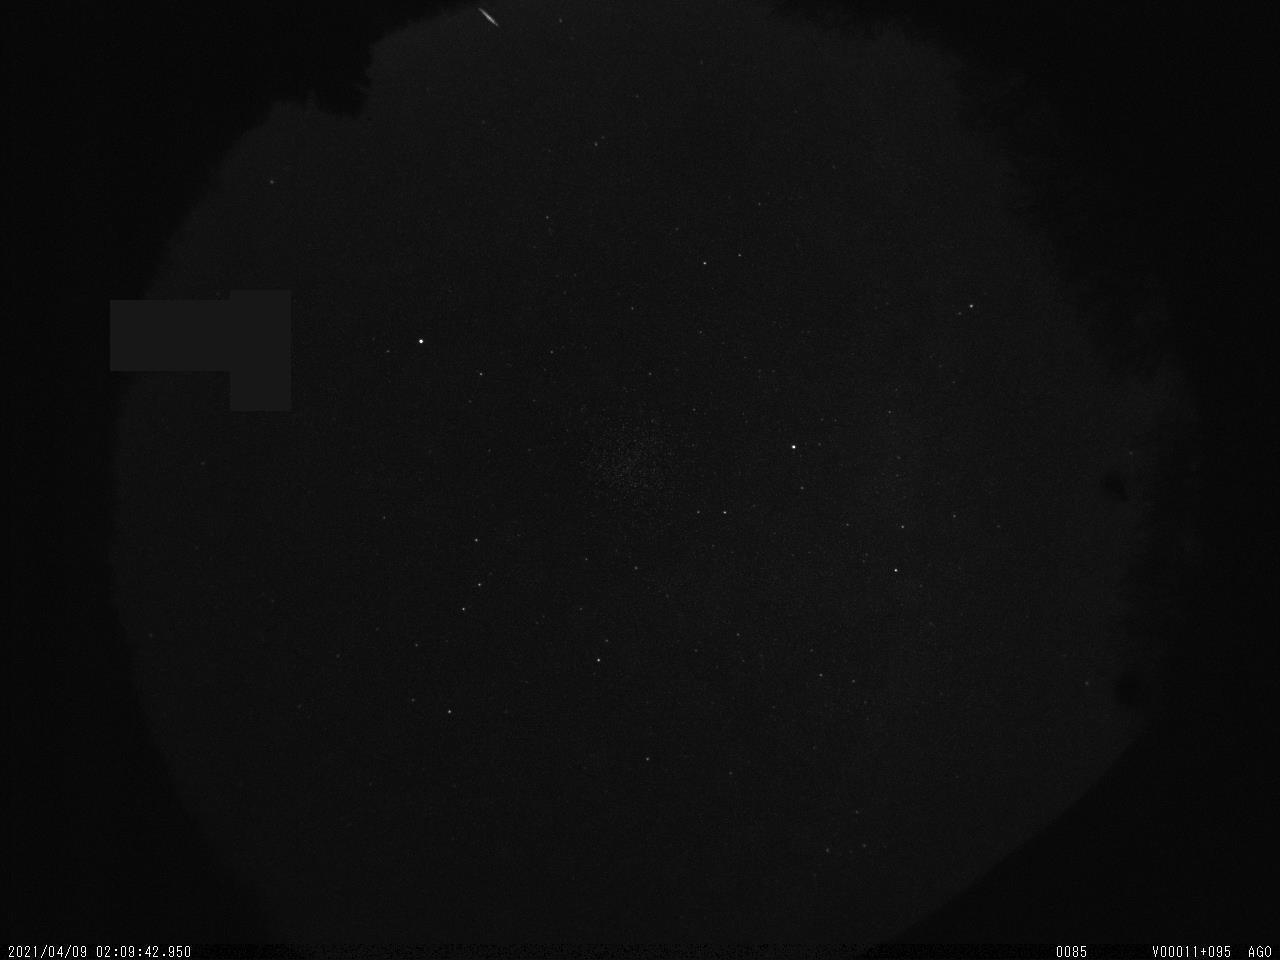Meteor: (475, 3, 500, 25)
